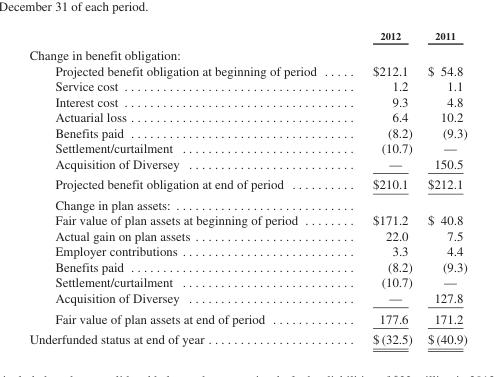table: (28, 28, 466, 346)
table column: (28, 28, 344, 346), (344, 28, 419, 346), (419, 28, 466, 346)
table column header: (28, 28, 466, 44)
table projected row header: (28, 44, 466, 62), (28, 194, 466, 212)
table row: (28, 173, 466, 194), (28, 307, 466, 328), (28, 44, 466, 62), (28, 155, 466, 173), (28, 194, 466, 212), (28, 289, 466, 307), (28, 328, 466, 346), (28, 28, 466, 44), (28, 62, 466, 78), (28, 93, 466, 109), (28, 124, 466, 140), (28, 227, 466, 243), (28, 258, 466, 274), (28, 78, 466, 93), (28, 109, 466, 124), (28, 140, 466, 155), (28, 212, 466, 227), (28, 243, 466, 258), (28, 274, 466, 289)
